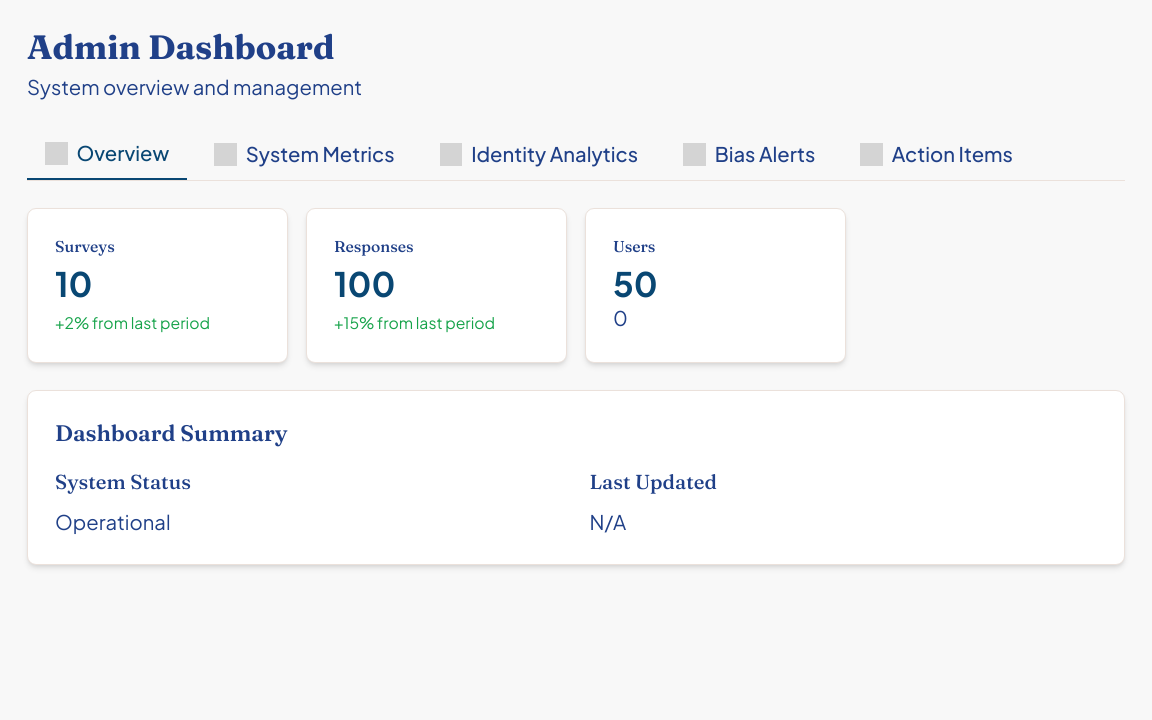
Test: AdminDashboard › Tab Navigation › should switch to Action Items tab
The width and height of the screenshot is (1152, 720).
Click the button "Action Items": (937, 155) [842,129,1031,180]
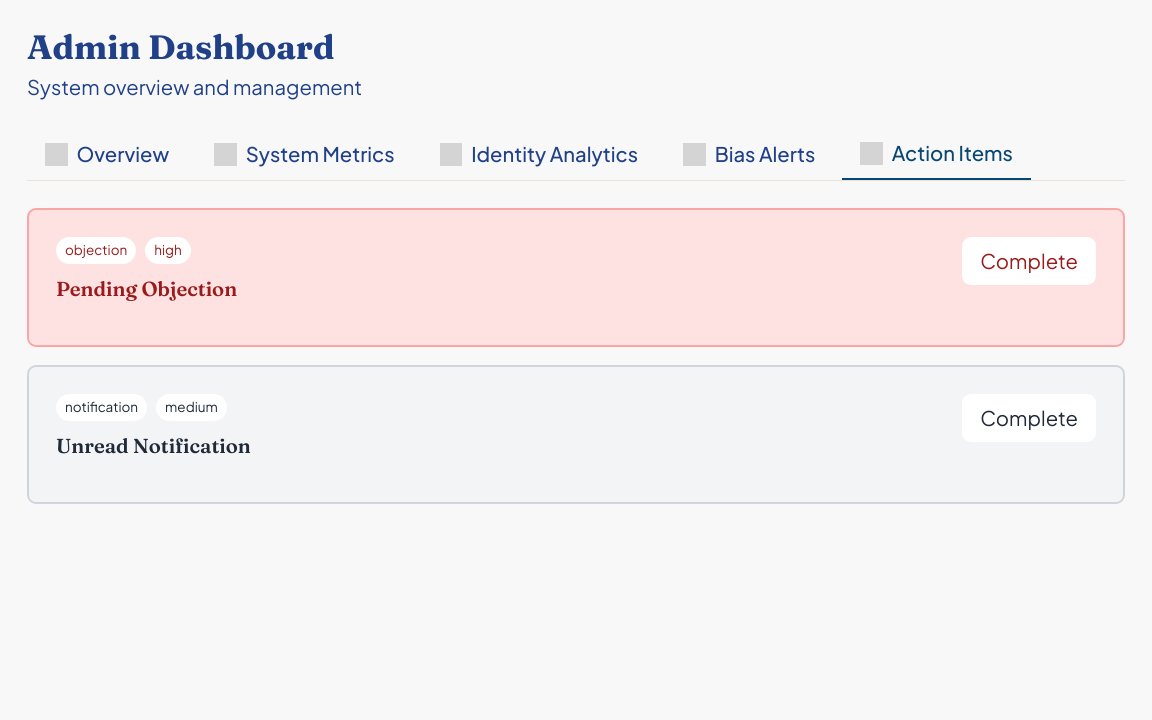
expect the heading "Pending Objection" is shown: met, box [56,276,237,301]
expect the heading "Unread Notification" is shown: met, box [56,433,251,458]
